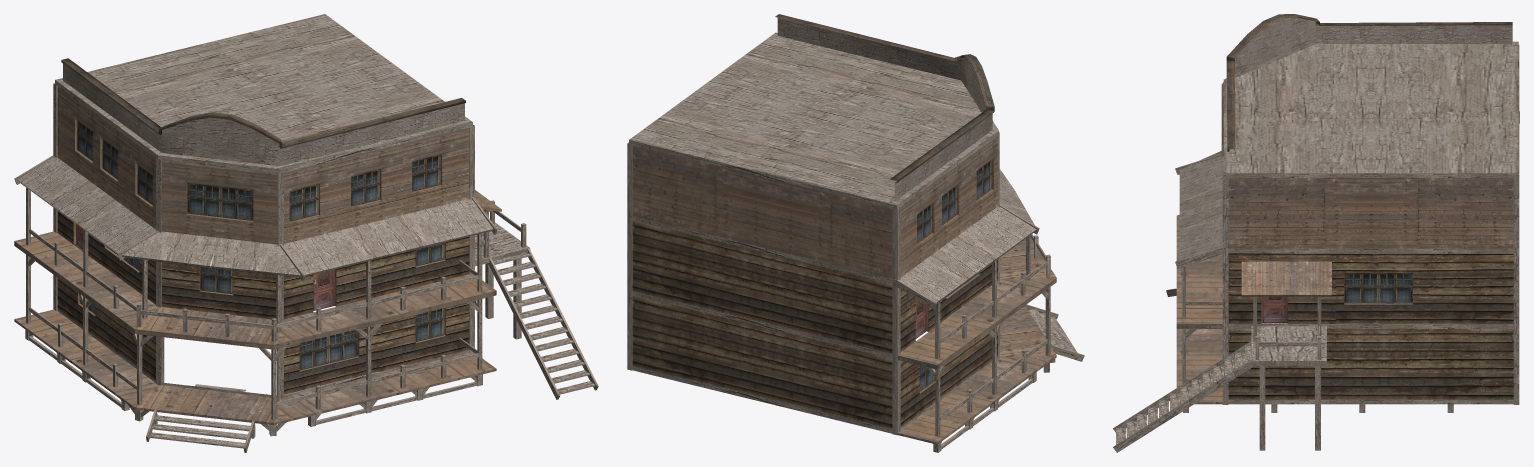
File: Bar 2.fbx
3 renders of one model, left to right at view 1: azimuth 30°, elevation 25°; view 2: azimuth 150°, elevation 25°; view 3: azimuth 270°, elevation 25°, orthographic.
Parts seen in each view (by area): view 1: House6, Box223, Box219, Box158, Box220, Box222, Box221, Box310, Box157, Box239, Box311, Box290 (+10 smaller); view 2: House6, Box223, Box158, Box219, Box222, Box309, Box157, Box218, Box217, Box308, Box221, Box213; view 3: House6, Box223, Box220, Box248, Box219, Box239, Box158, Box218, Box157, Box308, Box307, Box224 (+4 smaller).
Part boxes in pixels (<box>): House6: <box>57,58,469,394</box>; Box223: <box>55,14,472,173</box>; Box219: <box>14,231,496,349</box>; Box158: <box>14,309,496,425</box>; Box220: <box>283,199,493,276</box>; Box222: <box>17,156,155,254</box>; Box221: <box>121,231,300,277</box>; Box310: <box>156,158,164,385</box>; Box157: <box>57,309,469,397</box>; Box239: <box>475,222,530,266</box>; Box311: <box>276,173,283,398</box>; Box290: <box>276,353,478,406</box>; House6: <box>632,14,997,428</box>; Box223: <box>629,32,998,209</box>; Box158: <box>898,306,1056,444</box>; Box219: <box>898,238,1056,369</box>; Box222: <box>899,206,1036,303</box>; Box309: <box>892,207,900,435</box>; Box157: <box>632,356,997,433</box>; Box218: <box>632,214,986,283</box>; Box217: <box>632,291,892,358</box>; Box308: <box>627,142,632,370</box>; Box221: <box>999,169,1034,225</box>; Box213: <box>941,379,1032,449</box>; House6: <box>1226,14,1513,399</box>; Box223: <box>1223,41,1518,177</box>; Box220: <box>1179,156,1223,259</box>; Box248: <box>1241,261,1331,296</box>; Box219: <box>1176,214,1222,328</box>; Box239: <box>1251,326,1326,365</box>; Box158: <box>1176,329,1222,404</box>; Box218: <box>1228,248,1513,253</box>; Box157: <box>1228,399,1513,404</box>; Box308: <box>1513,175,1519,404</box>; Box307: <box>1222,175,1228,404</box>; Box224: <box>1113,360,1254,452</box>.
Bounding box in the file's own units: 1730 × 1239 × 1564.
